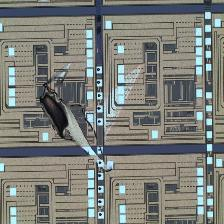BLOCK ETCH: (37, 63, 146, 174)
